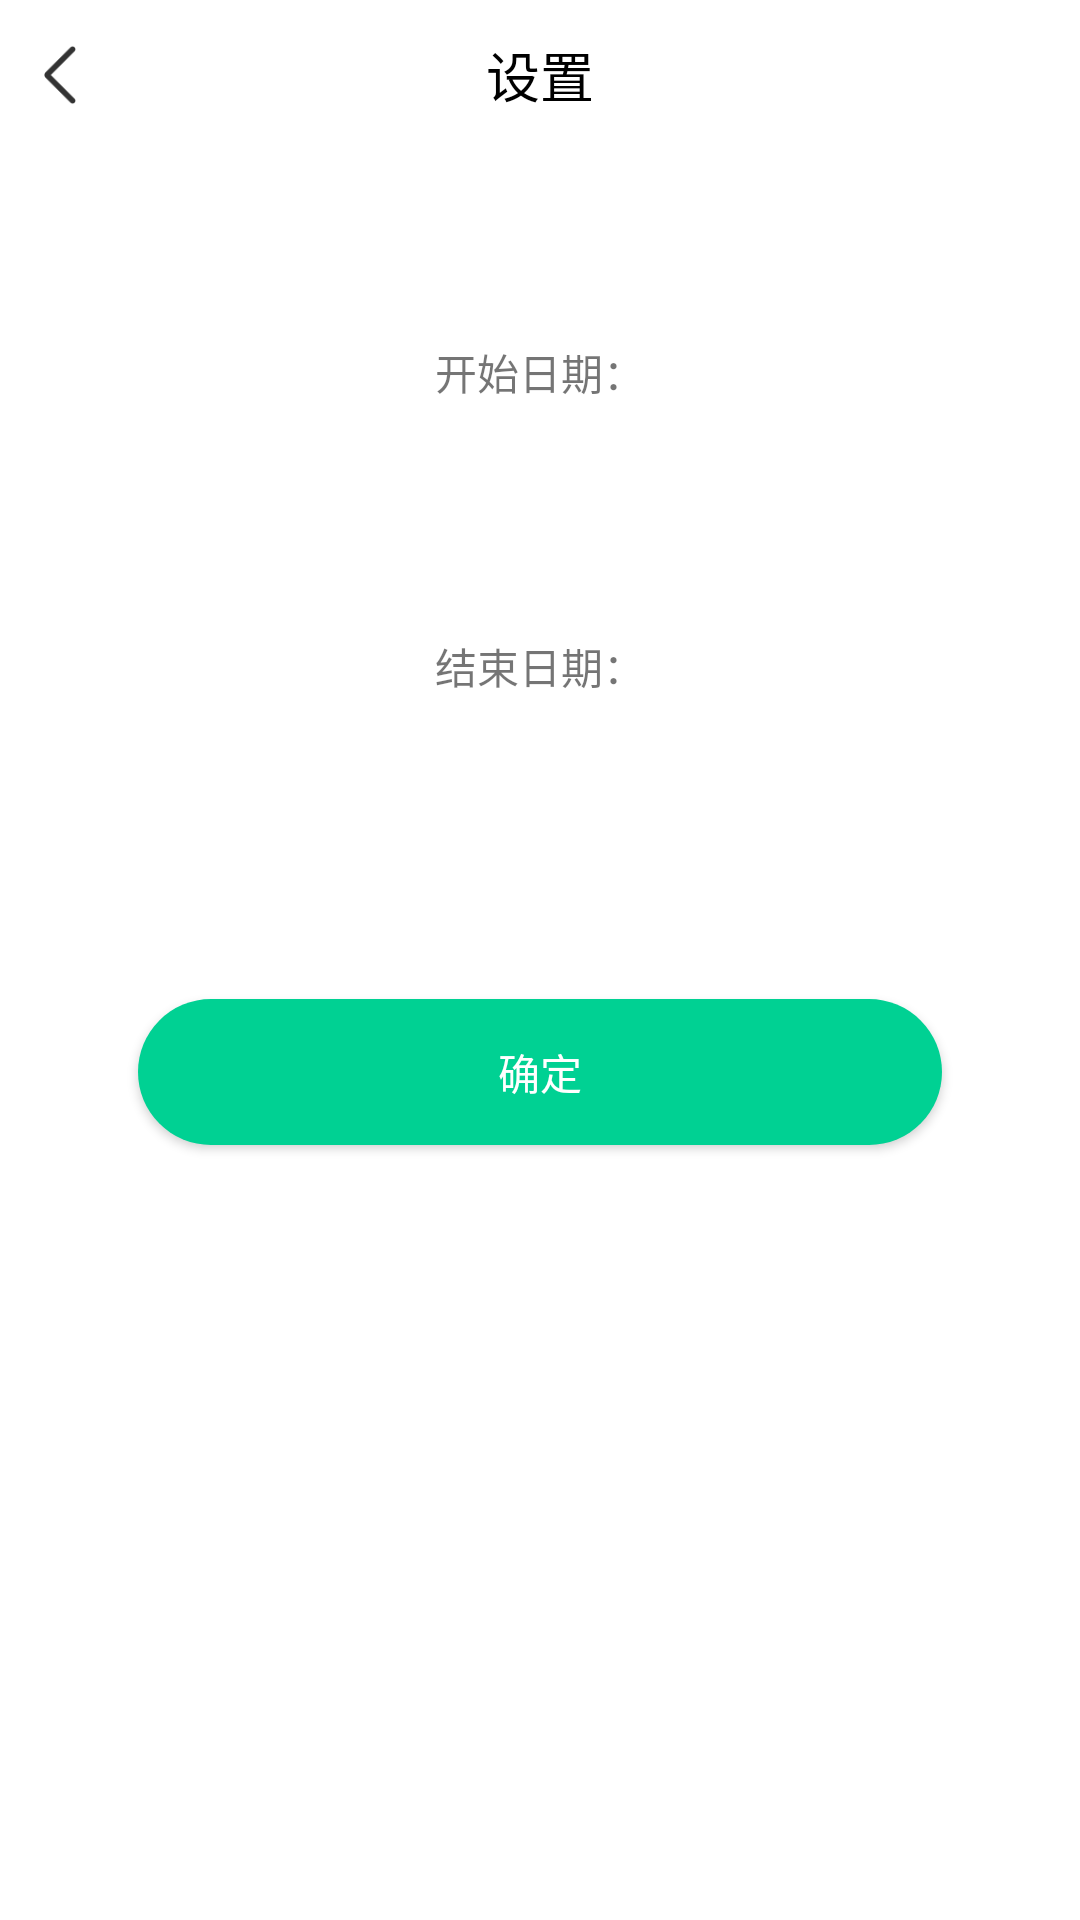

Where to tap for icons on this 1080 x 1920 app screen, as [x,y]:
back: [60,75]
